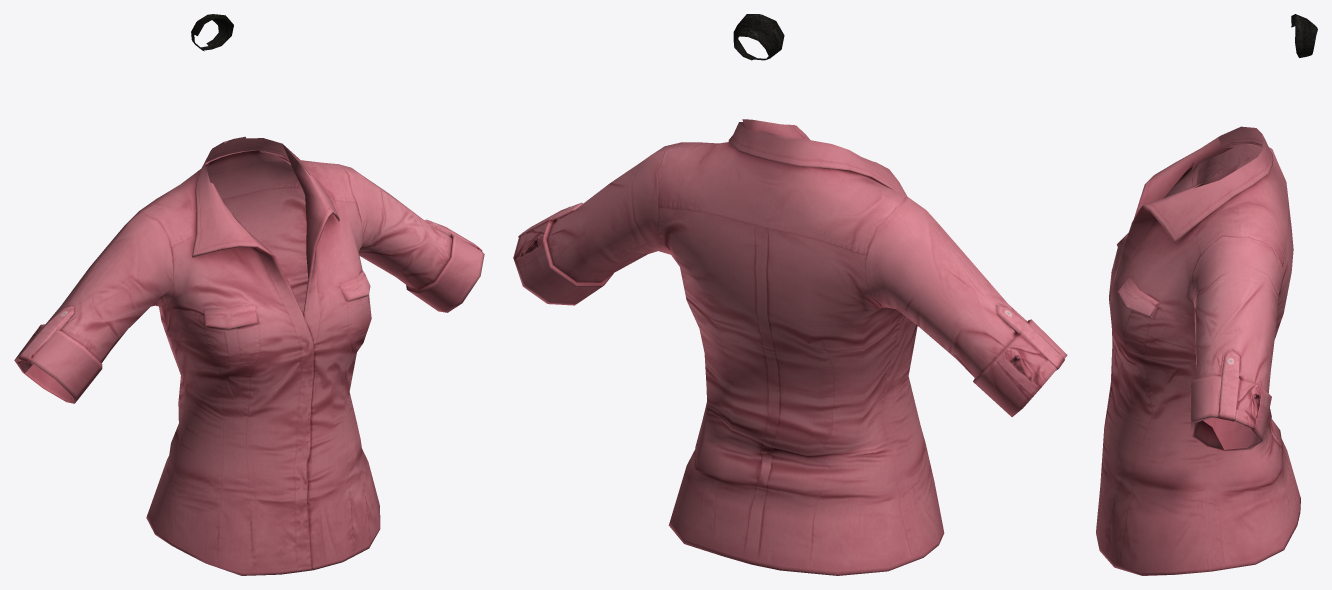
File: rocketbox-female-adult-01-top.glb
3 renders of one model, left to right at view 1: azimuth 30°, elevation 25°; view 2: azimuth 150°, elevation 25°; view 3: azimuth 270°, elevation 25°, orthographic. The views are drawn at different scales.
Parts seen in each view (by area): view 1: top; view 2: top; view 3: top.
Part boxes in pixels (bbox=[...]): top: bbox=[14, 14, 484, 575]; top: bbox=[513, 14, 1067, 575]; top: bbox=[1096, 14, 1317, 575].
Bounding box in the file's own units: 0.42 × 0.4277 × 0.1666.
2 materials, 2 textured.
